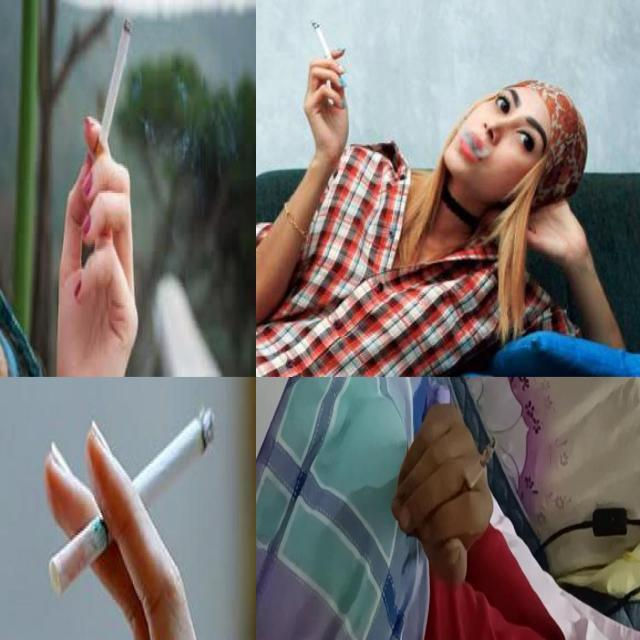cigarette: (49, 17, 144, 375), (49, 406, 215, 598), (382, 400, 509, 584), (310, 19, 358, 156)
